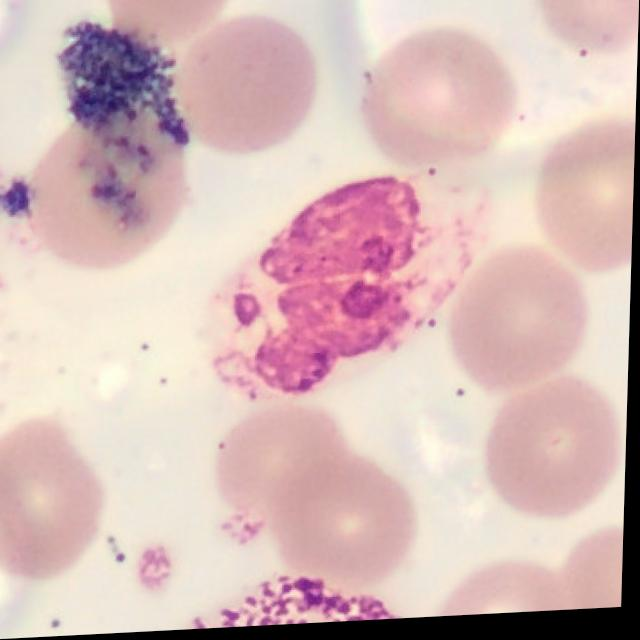Restos celulares: (204, 173, 495, 401)
